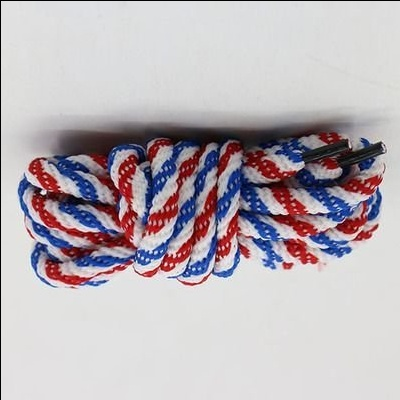9/可回收垃圾/绳子: (18, 130, 388, 290)
